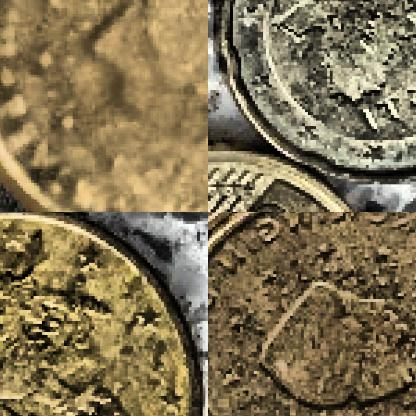coin: (0, 0, 207, 211), (208, 212, 415, 415), (0, 212, 203, 415), (217, 0, 415, 189)
